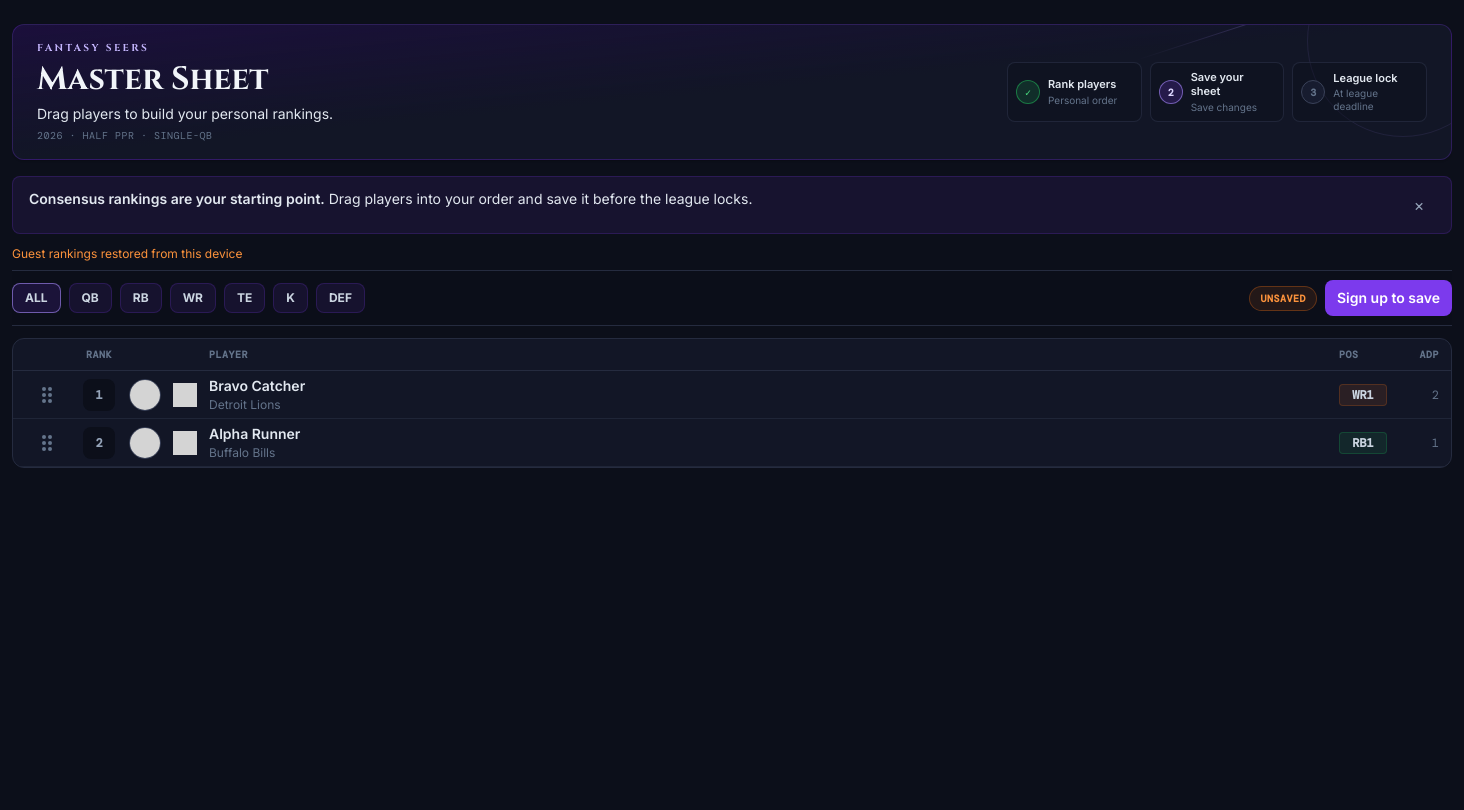
MasterSheetPage › for guests › then signs in › keeps the guest draft and shows the error when saving it fails
Expected: the text "Guest rankings restored from this device" is shown, [12,246,242,261]
Click the button "Sign up to save": [1388, 298] box [1325,280,1452,316]
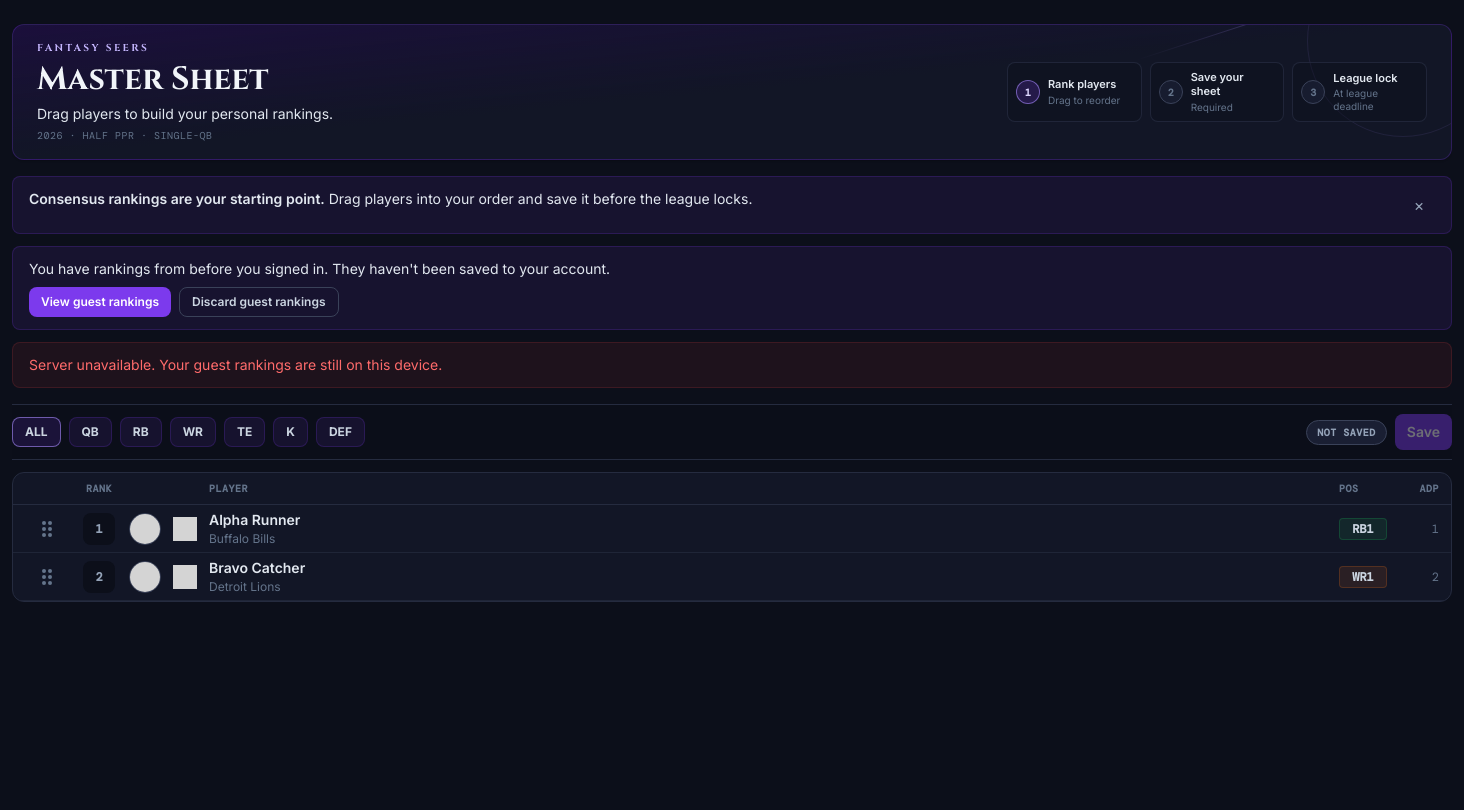
Expected: the text "Server unavailable" is shown, [29,356,442,373]
